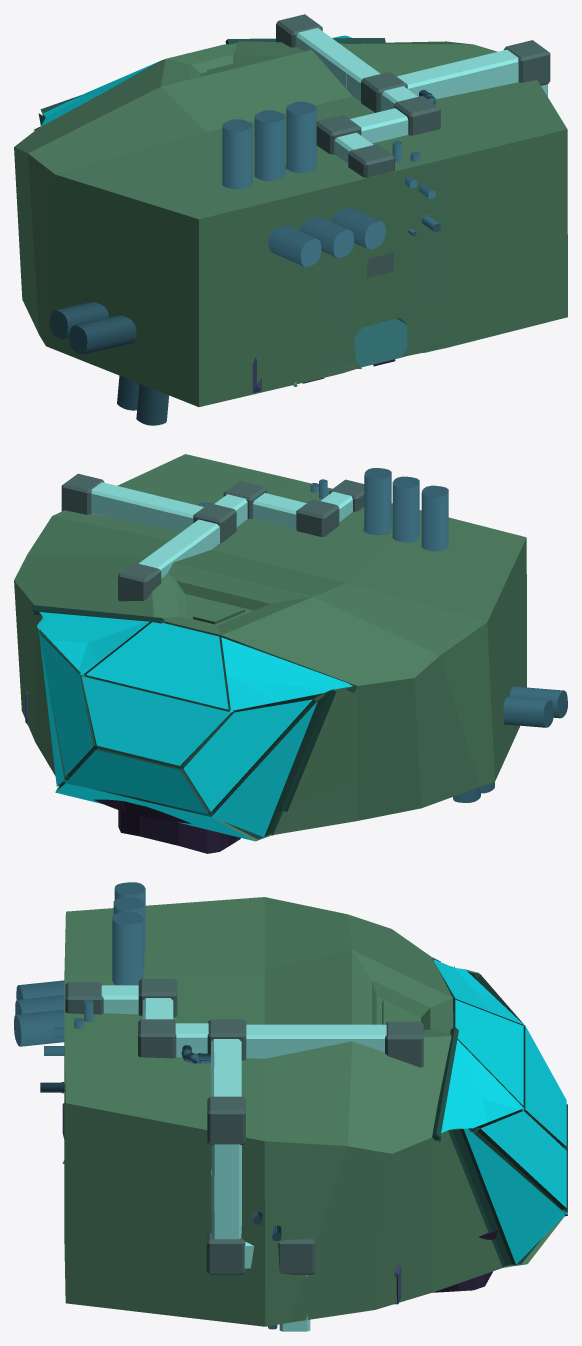
File: controle room schale correct.fbx
The picture shows the model from 3 angles, top to bottom: view 1: azimuth 30°, elevation 25°; view 2: azimuth 150°, elevation 25°; view 3: azimuth 270°, elevation 25°; orthographic projection. The views are drawn at different scales.
Visible parts, largest first — view 1: Cube.015, Cube.061, Cube.059, Cube.060, Cube.062, Cube.063, Cube.041, Cube.038, Cube.035, vent main.007, Cube.040, Cube.037 (+13 smaller); view 2: Cube.015, Cube.019, Cube.059, Cube.060, Cube.061, Cube.063, Cube.083, Cube.040, Cube.041, Cube.062, vent main.007, Cube.037 (+11 smaller); view 3: Cube.015, Cube.059, Cube.041, Cube.083, Cube.038, Cube.042, Cube.060, Cube.061, Cube.043, vent main.016, Cube.035, vent main.012 (+10 smaller).
Part boxes in pixels (x1,y1,x2,y2): Cube.015: (14,35,567,406); Cube.061: (222,119,321,266); Cube.059: (285,101,385,249); Cube.060: (253,110,353,257); Cube.062: (69,315,168,425); Cube.063: (50,302,139,410); Cube.041: (504,40,550,85); Cube.038: (394,95,440,135); Cube.035: (348,144,394,177); vent main.007: (449,56,492,93); Cube.040: (316,114,361,154); Cube.037: (361,71,407,112); Cube.015: (14,454,526,841); Cube.019: (118,810,240,853); Cube.059: (363,468,391,535); Cube.060: (392,476,419,542); Cube.061: (421,485,448,551); Cube.063: (453,696,553,802); Cube.083: (118,562,161,601); Cube.040: (296,499,339,536); Cube.041: (61,473,104,514); Cube.062: (480,686,567,793); vent main.007: (115,488,155,524); Cube.037: (193,503,236,542); Cube.015: (64,897,567,1326); Cube.059: (14,911,143,1046); Cube.041: (207,1096,245,1145); Cube.083: (385,1021,423,1067); Cube.038: (138,1019,176,1058); Cube.042: (206,1233,245,1274); Cube.060: (15,897,144,1014); Cube.061: (16,882,145,999); Cube.043: (278,1238,315,1274); vent main.016: (246,1024,279,1058); Cube.035: (65,982,103,1014); vent main.012: (211,1144,241,1179).
Bounding box in the file's own units: 7769 × 4226 × 6748.
